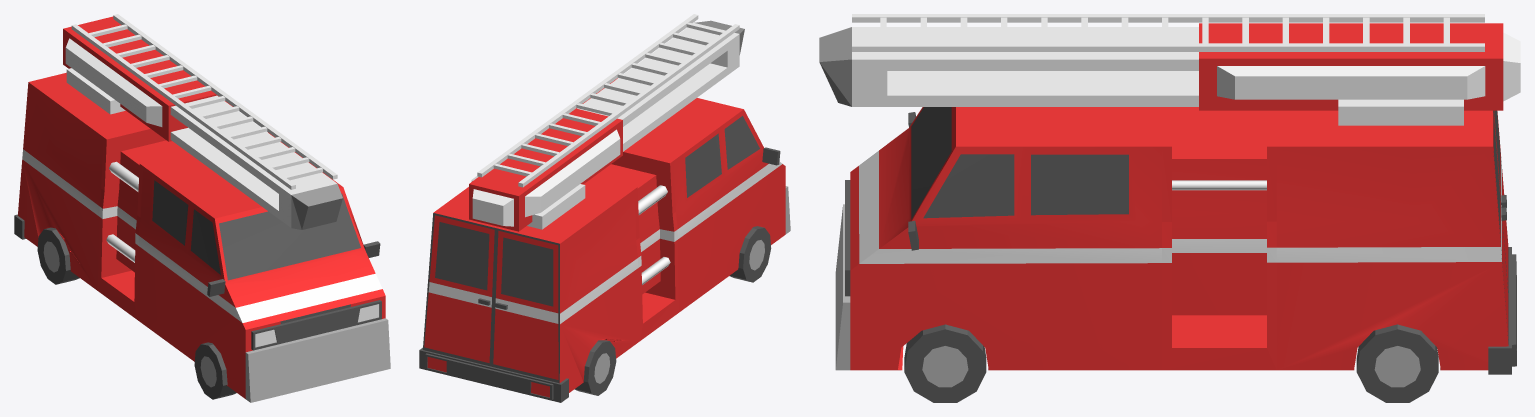
File: SM_FireTruck_01.FBX
3 renders of one model, left to right at view 1: azimuth 30°, elevation 25°; view 2: azimuth 150°, elevation 25°; view 3: azimuth 270°, elevation 25°, orthographic. The views are drawn at different scales.
Parts seen in each view (by area): view 1: SM_FireTruck_01, SM_Wheel_LFront002, SM_Wheel_RBack001; view 2: SM_FireTruck_01, SM_Wheel_LFront002, SM_Wheel_RBack001; view 3: SM_FireTruck_01, SM_Wheel_LFront001, SM_Wheel_LBack001.
Boxes of the visible parts, x1=… form: SM_FireTruck_01: x1=14, y1=14, x2=390, y2=402; SM_Wheel_LFront002: x1=194, y1=342, x2=236, y2=399; SM_Wheel_RBack001: x1=37, y1=227, x2=79, y2=284; SM_FireTruck_01: x1=419, y1=14, x2=790, y2=402; SM_Wheel_LFront002: x1=729, y1=226, x2=771, y2=282; SM_Wheel_RBack001: x1=574, y1=340, x2=616, y2=395; SM_FireTruck_01: x1=819, y1=14, x2=1520, y2=374; SM_Wheel_LFront001: x1=904, y1=324, x2=986, y2=402; SM_Wheel_LBack001: x1=1356, y1=324, x2=1438, y2=402.
Size of the model in its own units: 1.7 by 2.13 by 4.23.
1 material, 1 textured.
